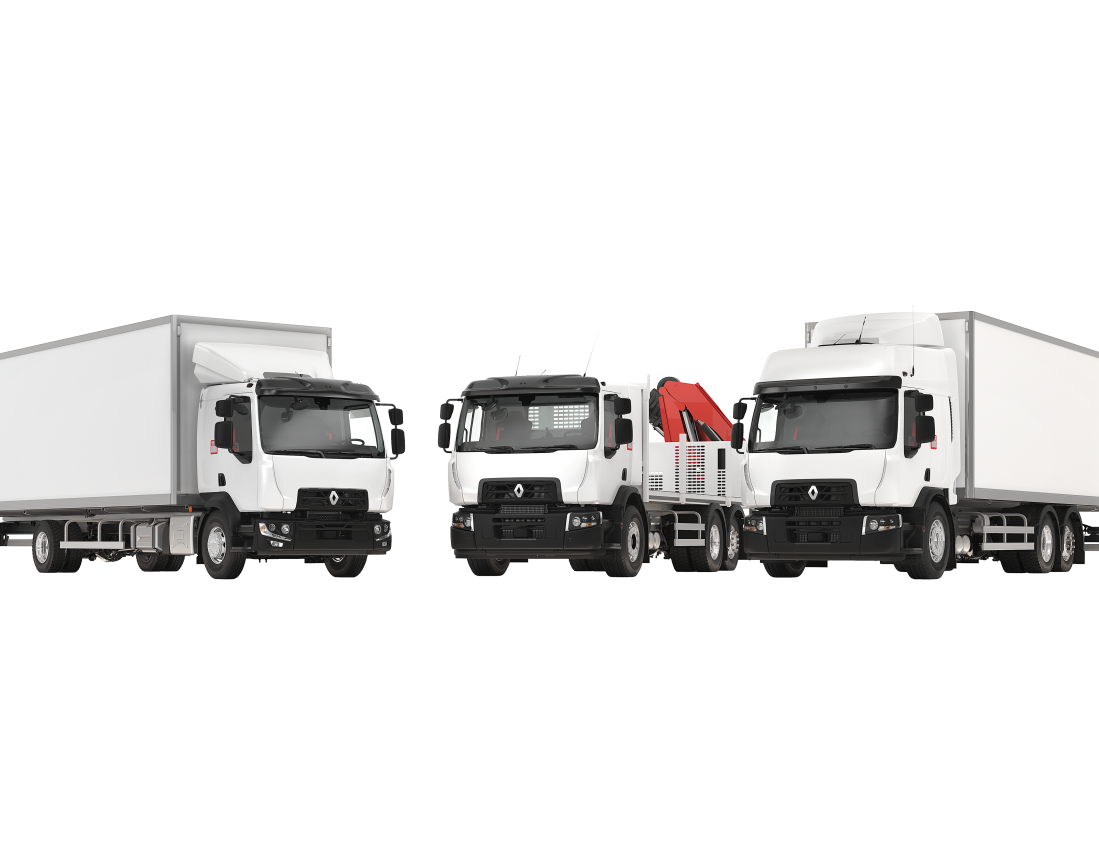truck: (1, 314, 405, 579), (731, 310, 1099, 580), (440, 374, 744, 577)
